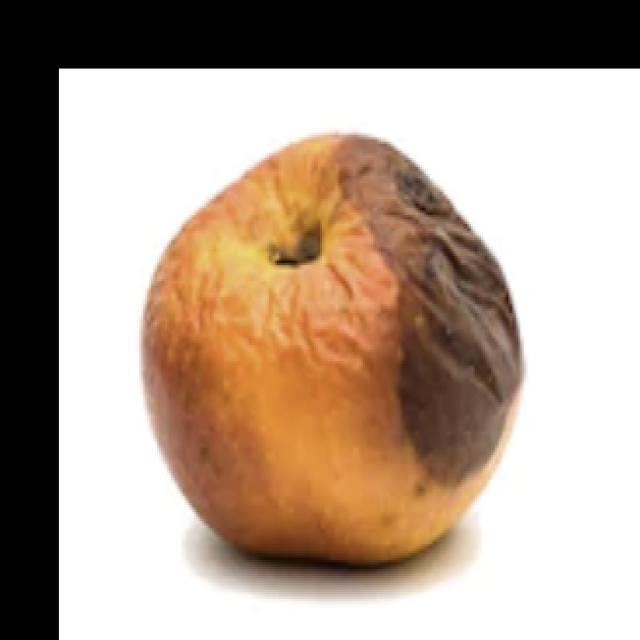Rotten: (149, 126, 520, 562)
